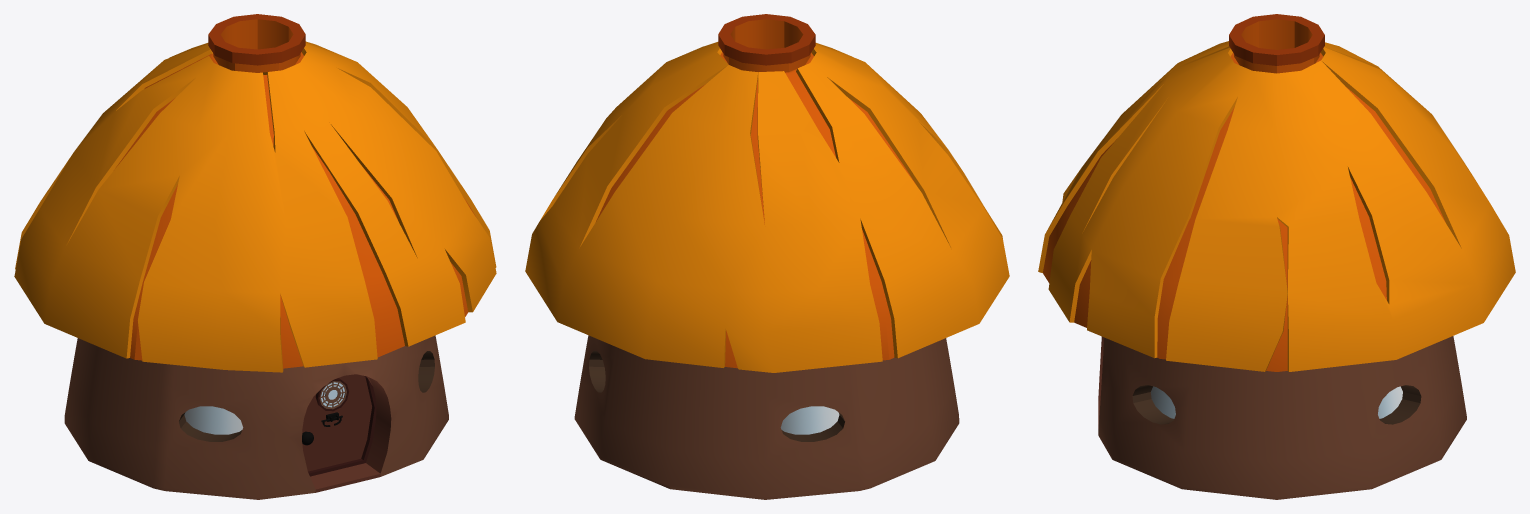
Rendered from home_5.fbx.
3 renders of one model, left to right at view 1: azimuth 30°, elevation 25°; view 2: azimuth 150°, elevation 25°; view 3: azimuth 270°, elevation 25°, orthographic.
Parts seen in each view (by area): view 1: Circle.018; view 2: Circle.018; view 3: Circle.018.
Part boxes in pixels (x1,y1,x2,y2): Circle.018: (14,14,496,499); Circle.018: (525,14,1009,499); Circle.018: (1038,14,1515,499).
Bounding box in the file's own units: 378 × 332 × 374.
